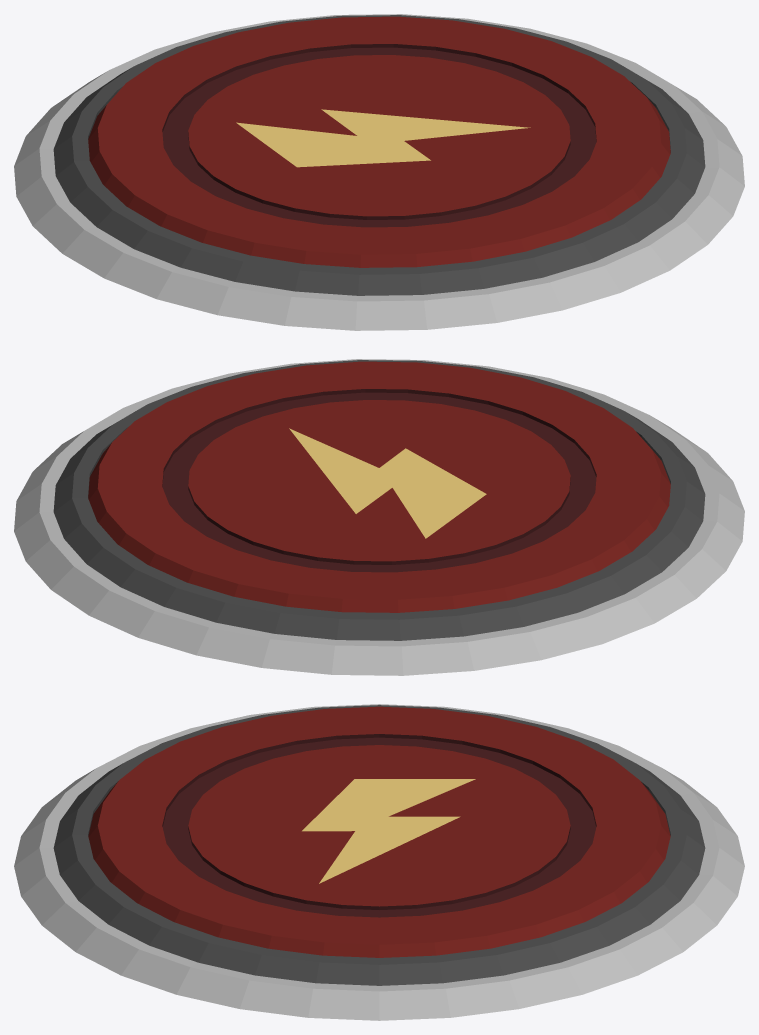
The model's file is RoundPressurePlateElec.fbx.
3 views of the same model, one above another, from view 1: azimuth 30°, elevation 25°; view 2: azimuth 150°, elevation 25°; view 3: azimuth 270°, elevation 25° (orthographic).
Visible parts, largest first — view 1: Round_Pressure_Plate_With_Electricity_Sign, Round_Pressure_Plate_With_Electricity_Sign_Base; view 2: Round_Pressure_Plate_With_Electricity_Sign, Round_Pressure_Plate_With_Electricity_Sign_Base; view 3: Round_Pressure_Plate_With_Electricity_Sign, Round_Pressure_Plate_With_Electricity_Sign_Base.
Part boxes in pixels (box(x1,y1,x2,y2)): Round_Pressure_Plate_With_Electricity_Sign: box(88, 16, 670, 267); Round_Pressure_Plate_With_Electricity_Sign_Base: box(14, 14, 744, 330); Round_Pressure_Plate_With_Electricity_Sign: box(88, 361, 670, 612); Round_Pressure_Plate_With_Electricity_Sign_Base: box(14, 359, 744, 675); Round_Pressure_Plate_With_Electricity_Sign: box(88, 706, 670, 957); Round_Pressure_Plate_With_Electricity_Sign_Base: box(14, 704, 744, 1020).
Bounding box in the file's own units: 202 × 12.58 × 202.
